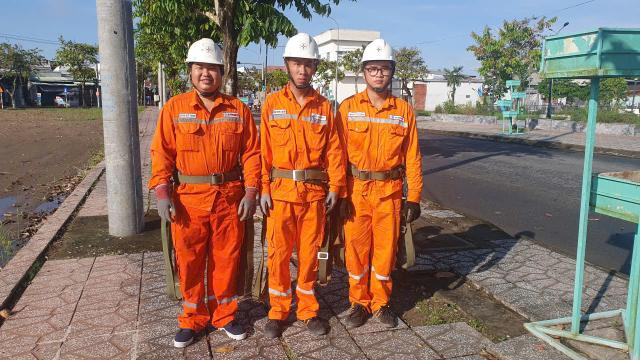gloves: (146, 180, 182, 223), (398, 196, 430, 228), (236, 181, 256, 224), (320, 189, 337, 226), (260, 190, 277, 218), (338, 194, 354, 222)
harness: (262, 158, 336, 185), (339, 158, 412, 182), (164, 164, 246, 184)
helmet: (276, 30, 330, 65), (350, 33, 407, 66), (184, 38, 230, 70)
shoes: (262, 296, 294, 343), (157, 317, 208, 346), (211, 310, 250, 345), (342, 291, 374, 332), (296, 304, 329, 342), (373, 296, 404, 336)
